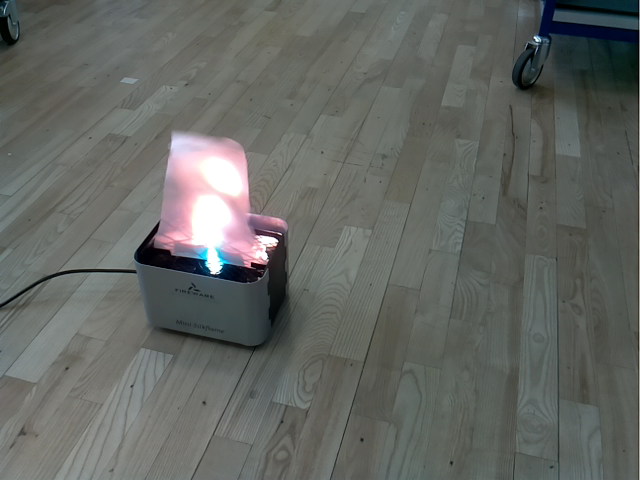fire: (154, 131, 268, 268)
